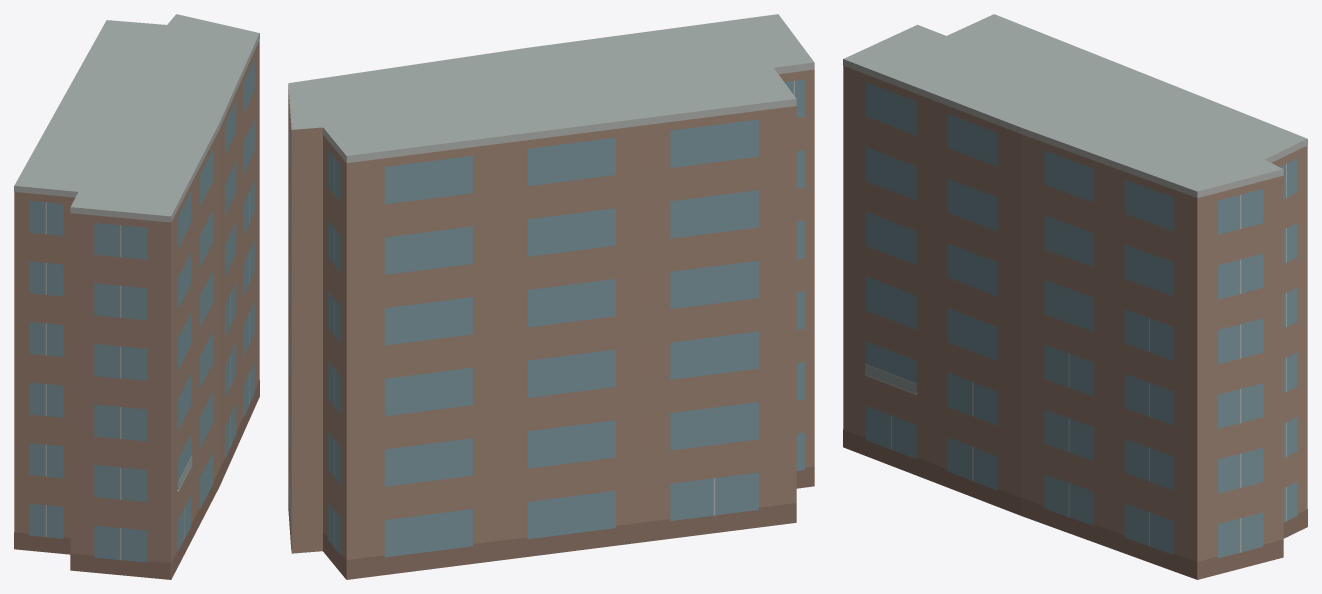
The model's file is survey-upis-32464685.glb.
3 renders of one model, left to right at view 1: azimuth 30°, elevation 25°; view 2: azimuth 150°, elevation 25°; view 3: azimuth 270°, elevation 25°, orthographic. The views are drawn at different scales.
Visible parts, largest first — view 1: survey-upis-32464685.tmp; view 2: survey-upis-32464685.tmp; view 3: survey-upis-32464685.tmp.
Boxes of the visible parts, x1=… form: survey-upis-32464685.tmp: x1=14, y1=14, x2=259, y2=579; survey-upis-32464685.tmp: x1=288, y1=14, x2=814, y2=579; survey-upis-32464685.tmp: x1=843, y1=14, x2=1307, y2=579.
Size of the model in its own units: 14.34 by 14.6 by 15.84.
